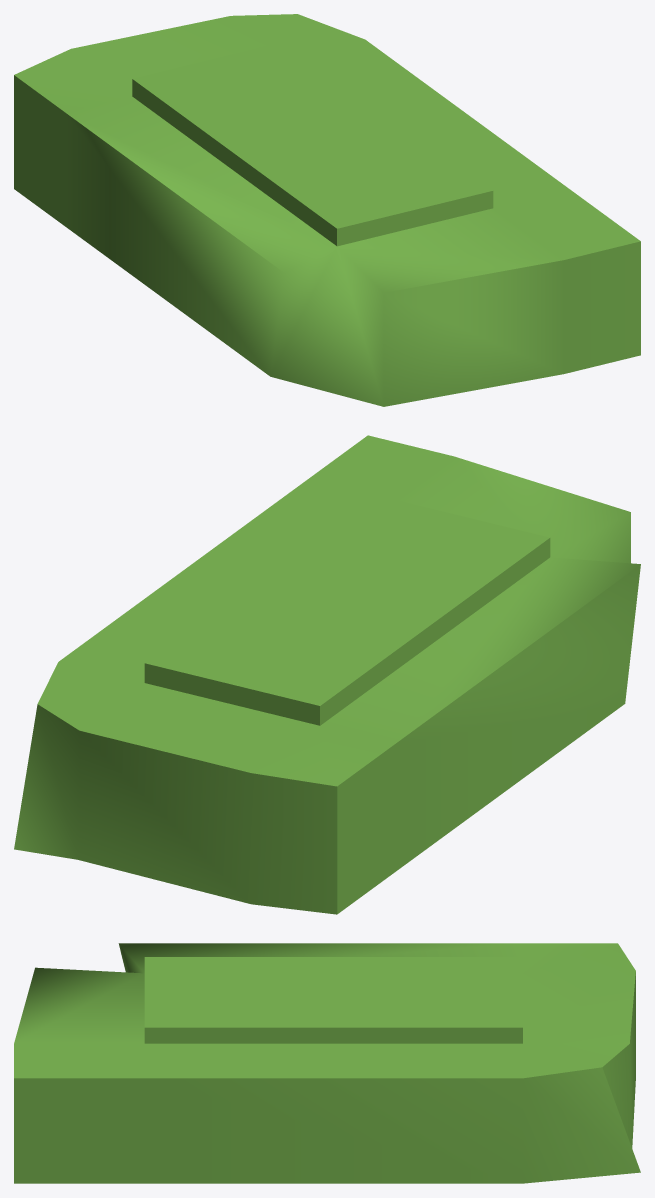
File: KingFisher_Brick01.glb
3 renders of one model, top to bottom at view 1: azimuth 30°, elevation 25°; view 2: azimuth 150°, elevation 25°; view 3: azimuth 270°, elevation 25°, orthographic. The views are drawn at different scales.
Visible parts, largest first — view 1: Brick; view 2: Brick; view 3: Brick.
Part boxes in pixels (left/top/right/bottom): Brick: left=14, top=14, right=640, bottom=406; Brick: left=14, top=435, right=640, bottom=914; Brick: left=14, top=943, right=640, bottom=1183.
Size of the model in its own units: 10.07 by 4.22 by 19.75.
